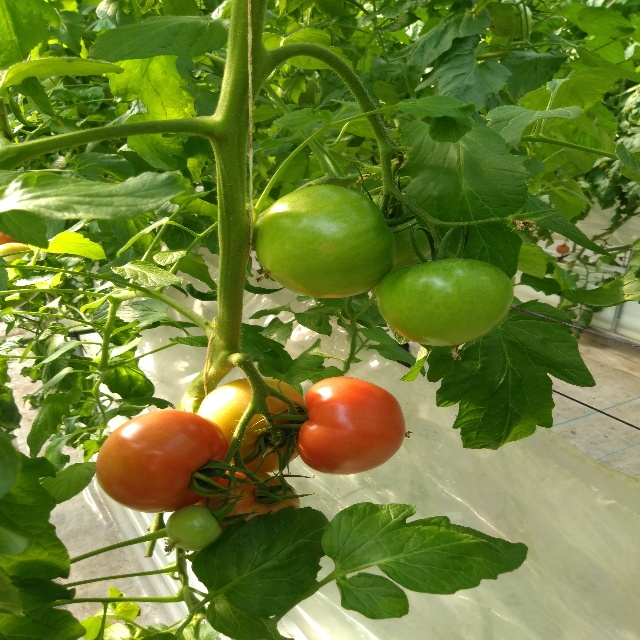b_fully_ripened: (96, 410, 229, 513), (296, 376, 405, 475)
b_green: (255, 185, 397, 298), (376, 258, 515, 347), (166, 505, 223, 551)
b_half_ripened: (197, 378, 308, 473)
